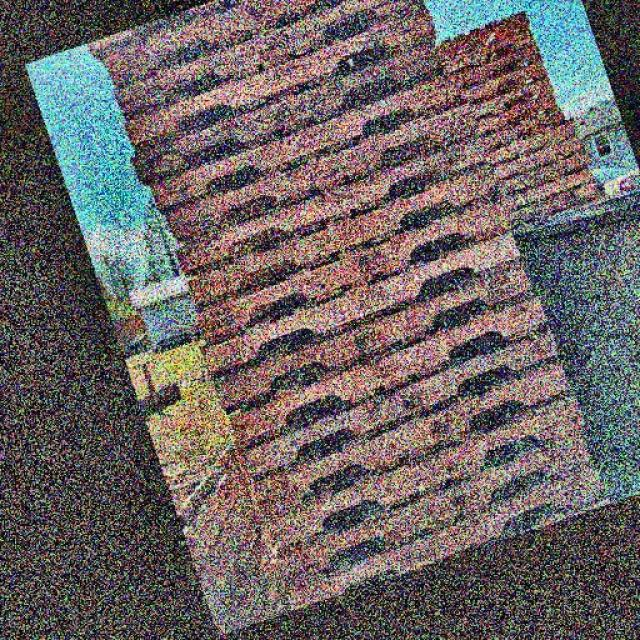non-igps: (249, 387, 598, 571), (237, 348, 580, 535), (219, 282, 562, 462), (204, 247, 544, 424), (231, 316, 570, 491), (258, 424, 602, 593), (271, 452, 613, 621), (188, 186, 524, 358), (191, 220, 533, 388), (126, 26, 450, 192), (173, 121, 497, 283), (161, 94, 489, 250), (146, 62, 464, 222), (119, 5, 443, 154), (182, 158, 494, 312), (108, 0, 437, 122), (94, 0, 332, 98), (82, 0, 251, 67), (437, 35, 549, 97), (434, 24, 540, 83), (450, 54, 556, 113), (490, 144, 595, 203), (433, 8, 536, 66), (494, 160, 597, 218), (480, 113, 581, 172), (499, 178, 605, 234), (488, 129, 589, 186), (473, 100, 569, 158), (463, 70, 562, 125), (469, 88, 562, 143)
